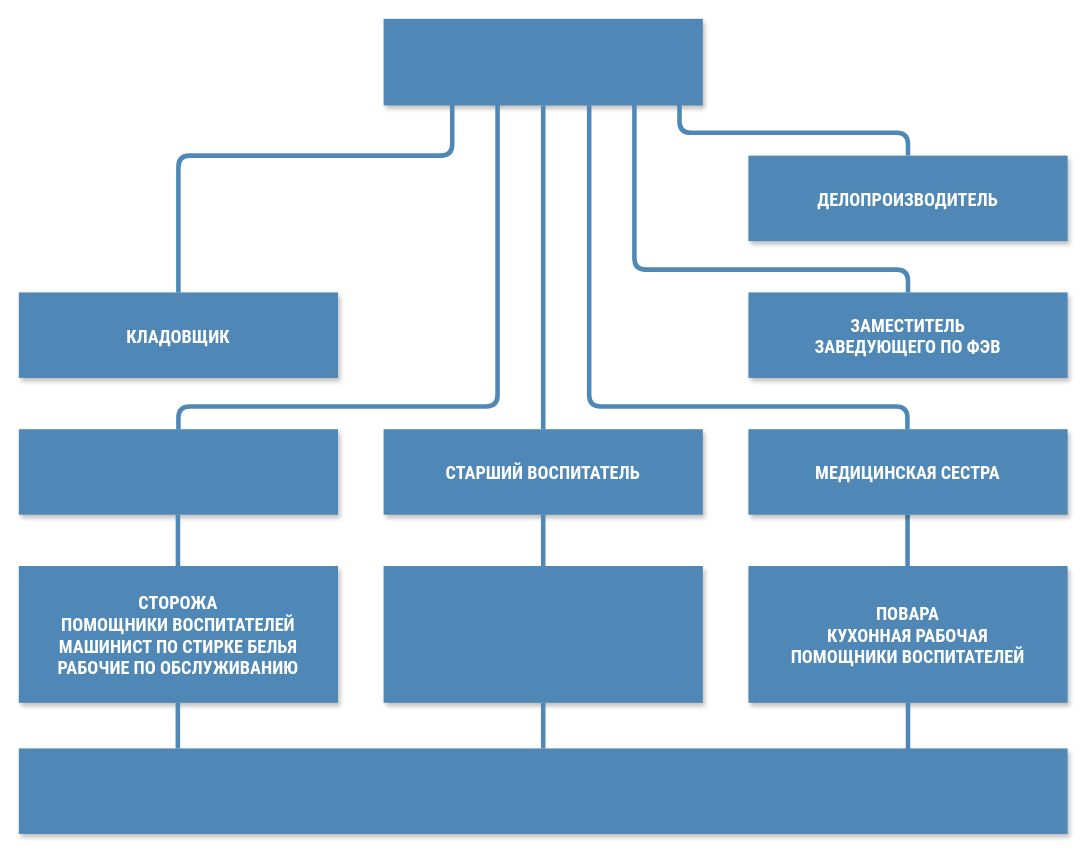
Some shapes in this 1086 by 853 pixel diagram are drawn without their labels. The centre of each missing label's shape, as x and y in pixels:
ВОСПИТАННИКИ И ИХ РОДИТЕЛИ: point 544,792
ВОСПИТАТЕЛИ МУЗЫКАЛЬНЫЙ РУКОВОДИТЕЛЬ: point 543,635
ЗАВЕДУЮЩИЙ: point 543,63
ЗАВХОЗ: point 179,473
